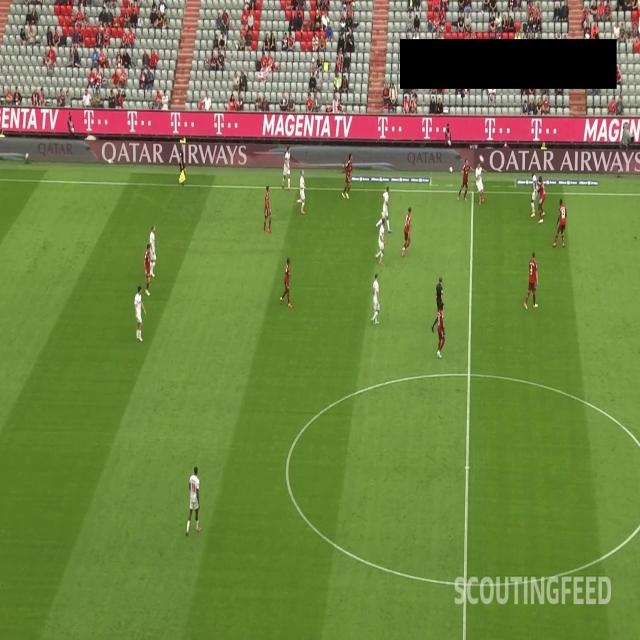ball: (479, 153, 485, 164)
player: (185, 462, 202, 538), (551, 197, 569, 250), (376, 183, 394, 234), (524, 250, 539, 309), (133, 284, 147, 344), (456, 157, 475, 199), (474, 162, 490, 206), (280, 255, 293, 309), (340, 151, 354, 199), (375, 218, 387, 266), (535, 172, 546, 224), (402, 204, 412, 259), (142, 242, 152, 296), (149, 224, 159, 278), (262, 185, 272, 236), (371, 270, 380, 325), (528, 169, 538, 218), (437, 304, 446, 357), (282, 146, 292, 192), (296, 168, 306, 213)
referee: (431, 272, 446, 334), (178, 141, 188, 188)
